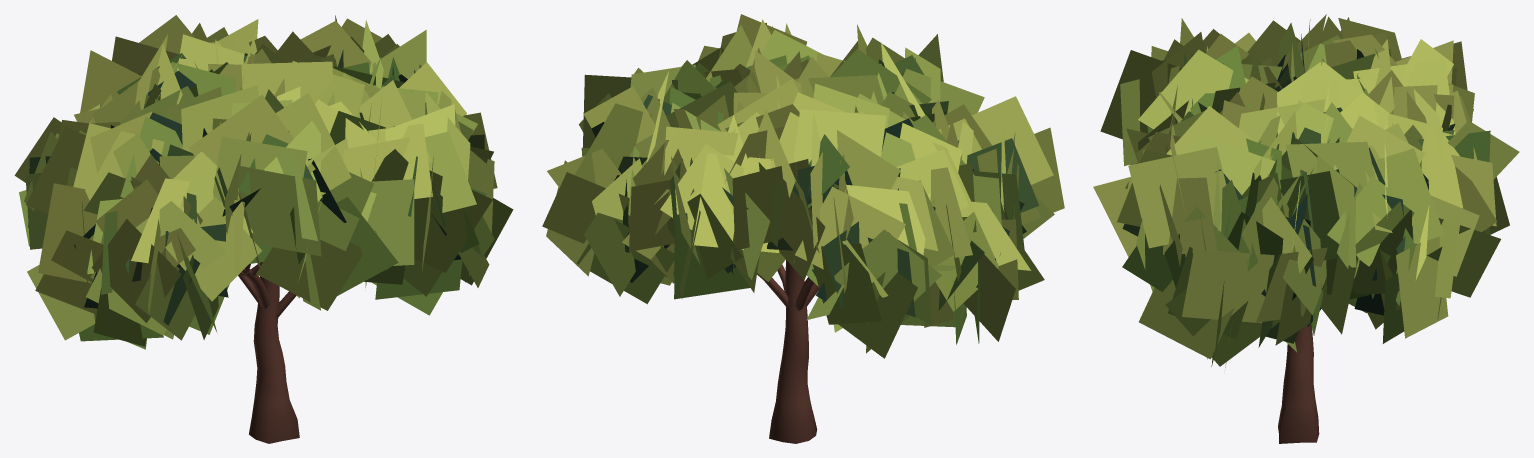
Rendered from BroadleafWide.fbx.
3 renders of one model, left to right at view 1: azimuth 30°, elevation 25°; view 2: azimuth 150°, elevation 25°; view 3: azimuth 270°, elevation 25°, orthographic.
Parts seen in each view (by area): view 1: BroadleafWide; view 2: BroadleafWide; view 3: BroadleafWide.
Boxes of the visible parts, x1,y1,x2,y2 form: BroadleafWide: [14, 15, 513, 443]; BroadleafWide: [542, 14, 1064, 443]; BroadleafWide: [1093, 14, 1519, 443].
Bounding box in the file's own units: 9.25 × 7.7 × 7.82.
